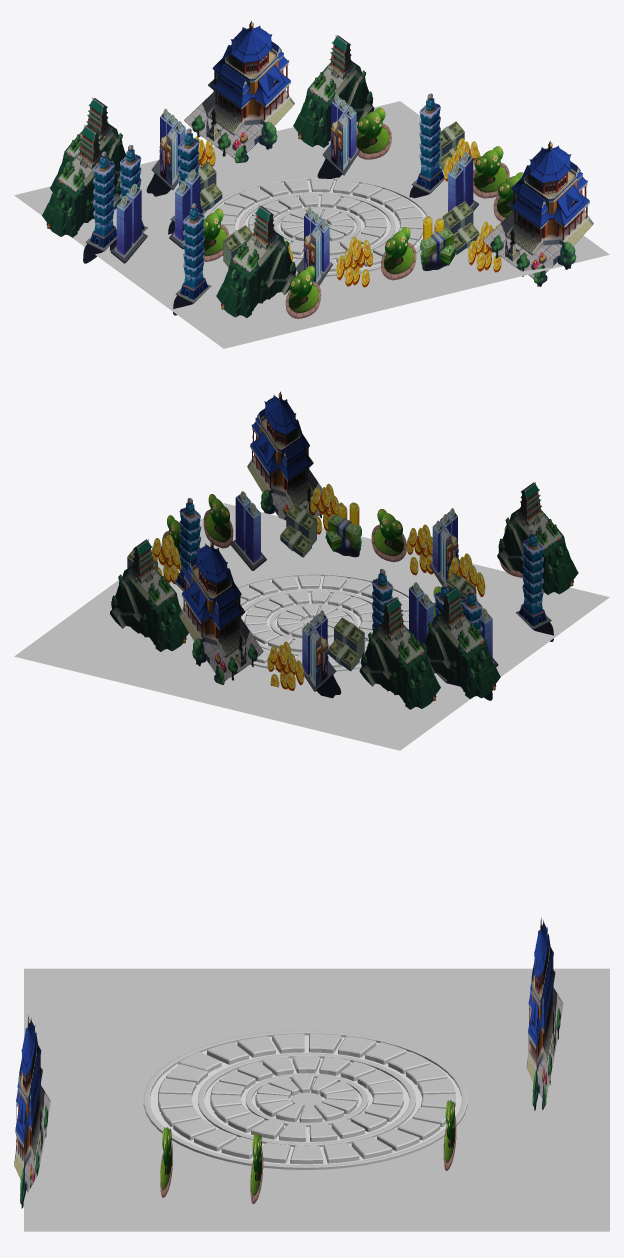
Rendered from round.FBX.
3 renders of one model, top to bottom at view 1: azimuth 30°, elevation 25°; view 2: azimuth 150°, elevation 25°; view 3: azimuth 270°, elevation 25°, orthographic. The views are drawn at different scales.
Parts seen in each view (by area): view 1: Plane001, Plane034, Plane025, Plane027, Plane035, Plane030, Plane032, Plane020, Plane028, Plane016, Plane023, Plane029 (+25 smaller); view 2: Plane001, Plane034, Plane025, Plane029, Plane035, Plane030, Plane027, Plane023, Plane028, Plane011, Plane006, Plane009 (+18 smaller); view 3: Plane001, Cylinder011, Plane034, Plane025, cf_1, cf_3, Object059, Object058, Plane015, Plane019, Plane014, cf_1_f (+1 smaller).
Boxes of the visible parts, bbox=[...] form: Plane001: bbox=[14, 101, 609, 348]; Plane034: bbox=[184, 21, 294, 163]; Plane025: bbox=[483, 141, 593, 286]; Plane027: bbox=[216, 205, 296, 317]; Plane035: bbox=[293, 35, 374, 147]; Plane030: bbox=[42, 125, 121, 237]; Plane032: bbox=[83, 151, 116, 263]; Plane020: bbox=[317, 94, 359, 178]; Plane028: bbox=[173, 203, 211, 315]; Plane016: bbox=[409, 93, 444, 198]; Plane023: bbox=[146, 108, 185, 196]; Plane029: bbox=[50, 97, 126, 191]; Plane001: bbox=[14, 503, 609, 750]; Plane034: bbox=[179, 540, 263, 684]; Plane025: bbox=[247, 391, 331, 520]; Plane029: bbox=[359, 597, 440, 709]; Plane035: bbox=[110, 539, 188, 651]; Plane030: bbox=[422, 586, 500, 698]; Plane027: bbox=[497, 482, 578, 594]; Plane023: bbox=[302, 610, 341, 698]; Plane028: bbox=[516, 529, 553, 641]; Plane011: bbox=[230, 491, 266, 570]; Plane006: bbox=[429, 508, 459, 585]; Plane009: bbox=[325, 502, 361, 557]; Plane001: bbox=[24, 968, 609, 1231]; Cylinder011: bbox=[150, 1035, 461, 1165]; Plane034: bbox=[526, 917, 563, 1110]; Plane025: bbox=[14, 1015, 50, 1208]; cf_1: bbox=[143, 1030, 467, 1169]; cf_3: bbox=[255, 1075, 358, 1122]; Object059: bbox=[198, 1053, 415, 1146]; Object058: bbox=[245, 1073, 368, 1126]; Plane015: bbox=[250, 1133, 263, 1203]; Plane019: bbox=[443, 1100, 456, 1170]; Plane014: bbox=[160, 1127, 172, 1197]; cf_1_f: bbox=[207, 1042, 248, 1064].
Bounding box in the file's own units: 32.86 × 11.84 × 28.64.
